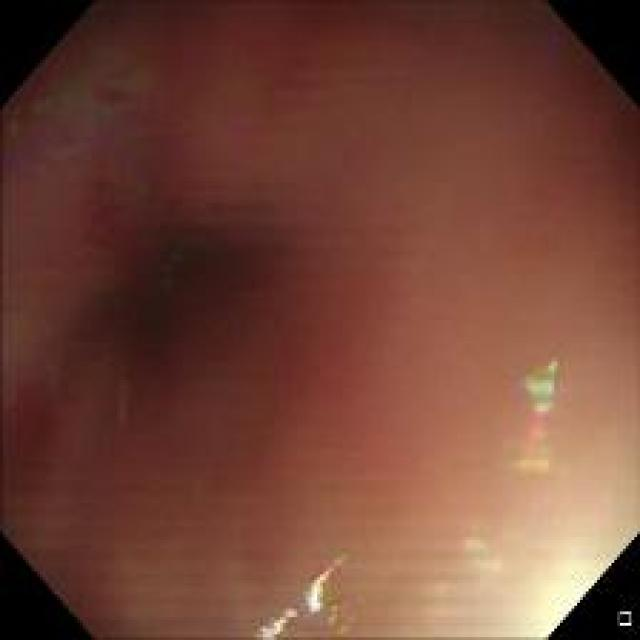blur: (4, 2, 636, 636)
color misalignment: (250, 544, 365, 638), (512, 354, 560, 476), (425, 526, 502, 598)
contrast: (50, 145, 316, 440)
saturation: (535, 554, 611, 630)
